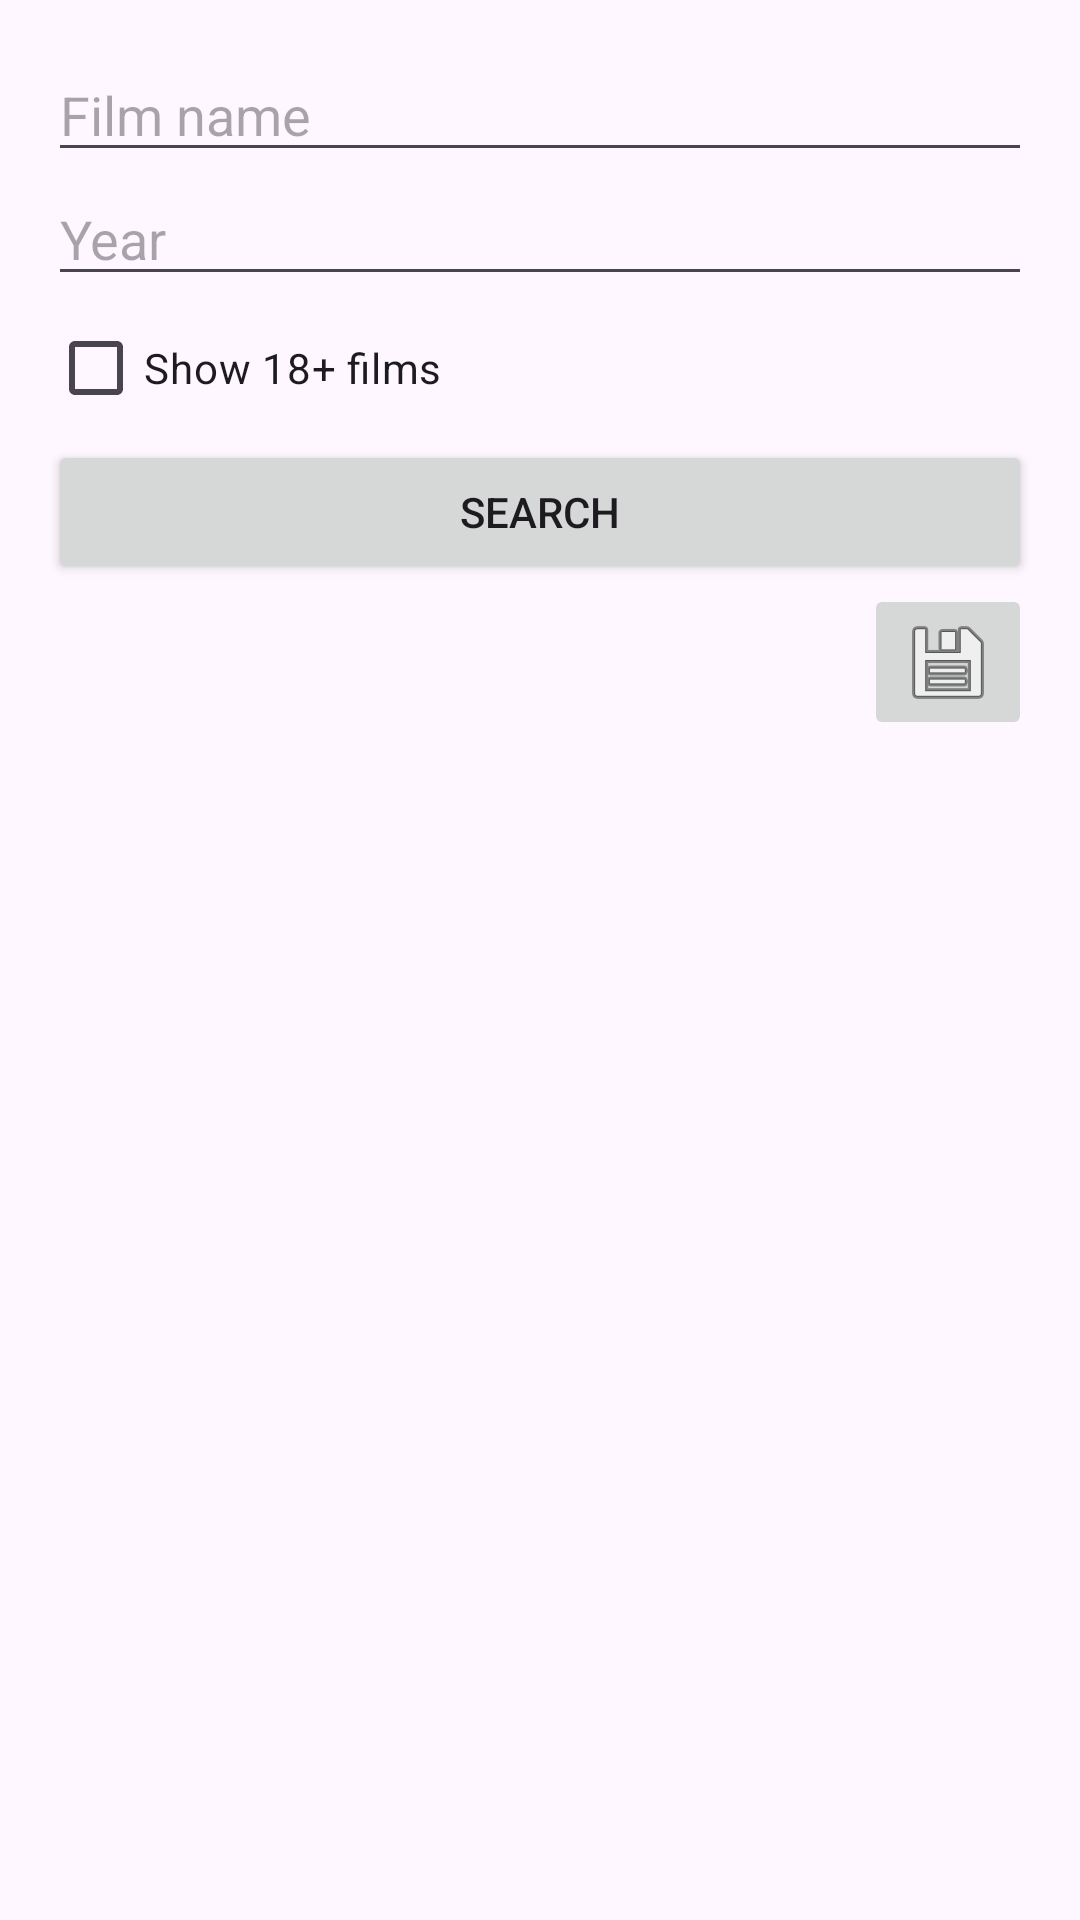

Icons on this 1080×1920 Android screen, each with its box as (x1, y1, x2, y2):
Saved Films: (876, 602, 1020, 722)
